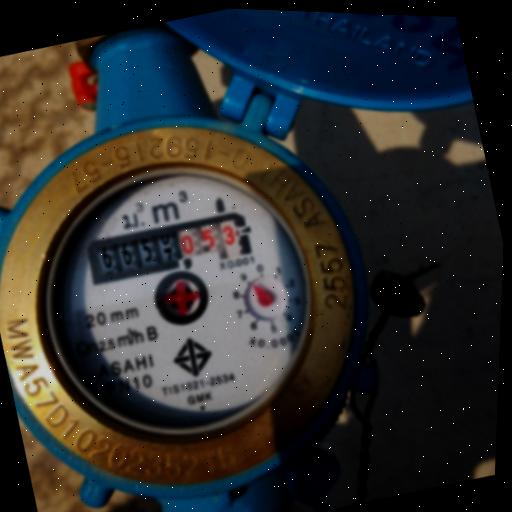0: (176, 227, 199, 259)
3: (217, 217, 244, 260)
5: (196, 223, 220, 255), (136, 236, 158, 269)
6: (95, 245, 118, 278), (154, 233, 177, 265), (115, 240, 137, 272)
border_water_meter_number: (83, 203, 253, 293)
